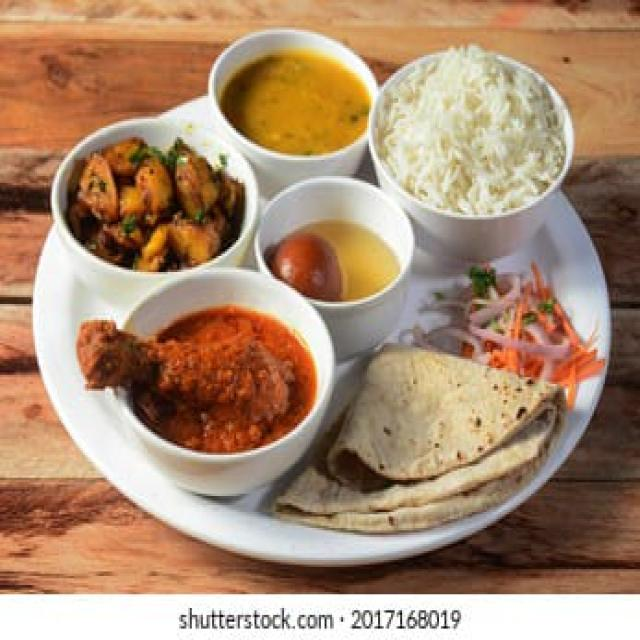non veg meals: (49, 8, 617, 549)
